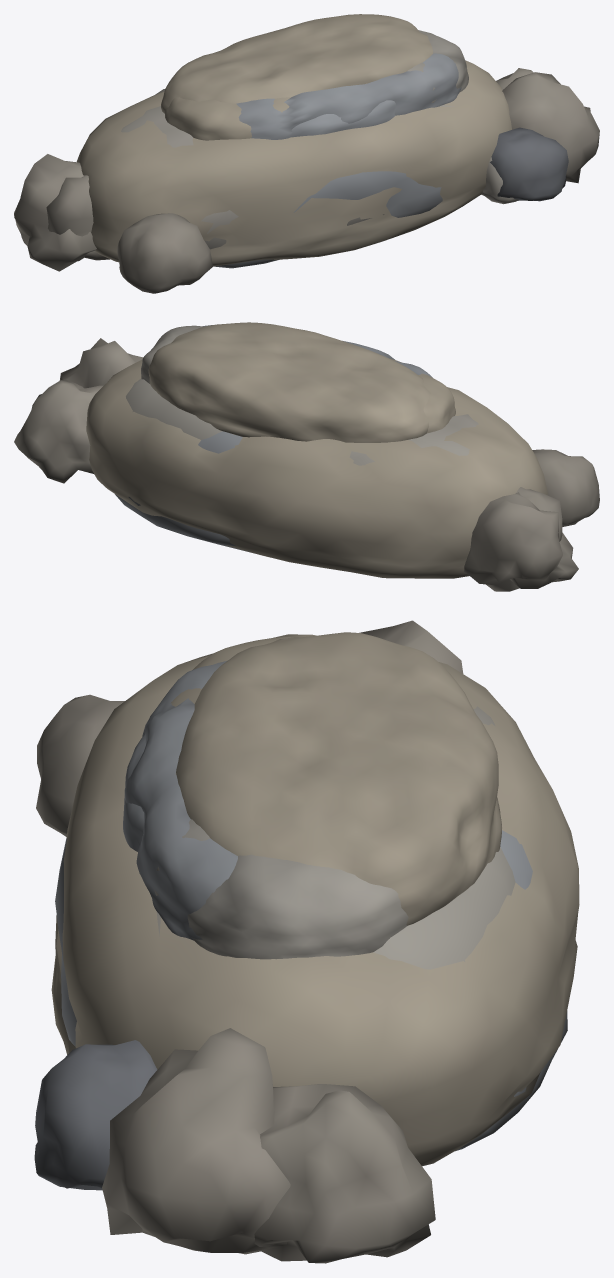
Rendered from shore_slabs.fbx.
3 renders of one model, top to bottom at view 1: azimuth 30°, elevation 25°; view 2: azimuth 150°, elevation 25°; view 3: azimuth 270°, elevation 25°, orthographic. The views are drawn at different scales.
Visible parts, largest first — view 1: SlabC, SlabF, SlabE, SlabA, SlabB, SlabD; view 2: SlabC, SlabF, SlabA, SlabB, SlabE, SlabD; view 3: SlabC, SlabA, SlabE, SlabF, SlabB.
Boxes of the visible parts, x1,y1,x2,y2 form: SlabC: [76, 14, 533, 266]; SlabF: [14, 97, 568, 271]; SlabE: [213, 53, 461, 268]; SlabA: [121, 30, 599, 249]; SlabB: [117, 100, 395, 293]; SlabD: [46, 157, 517, 260]; SlabC: [14, 322, 547, 578]; SlabF: [389, 358, 578, 591]; SlabA: [59, 325, 478, 465]; SlabB: [532, 449, 599, 526]; SlabE: [115, 325, 432, 552]; SlabD: [516, 487, 562, 541]; SlabC: [51, 632, 579, 1263]; SlabA: [102, 706, 515, 1254]; SlabE: [55, 660, 567, 1151]; SlabF: [34, 620, 463, 1190]; SlabB: [36, 694, 145, 851].
Size of the model in its own units: 111 by 31.92 by 48.92.
